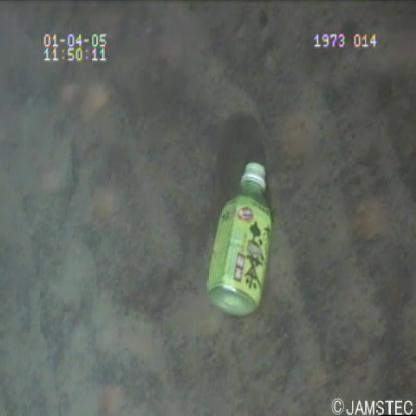Rác: (199, 154, 295, 330)
